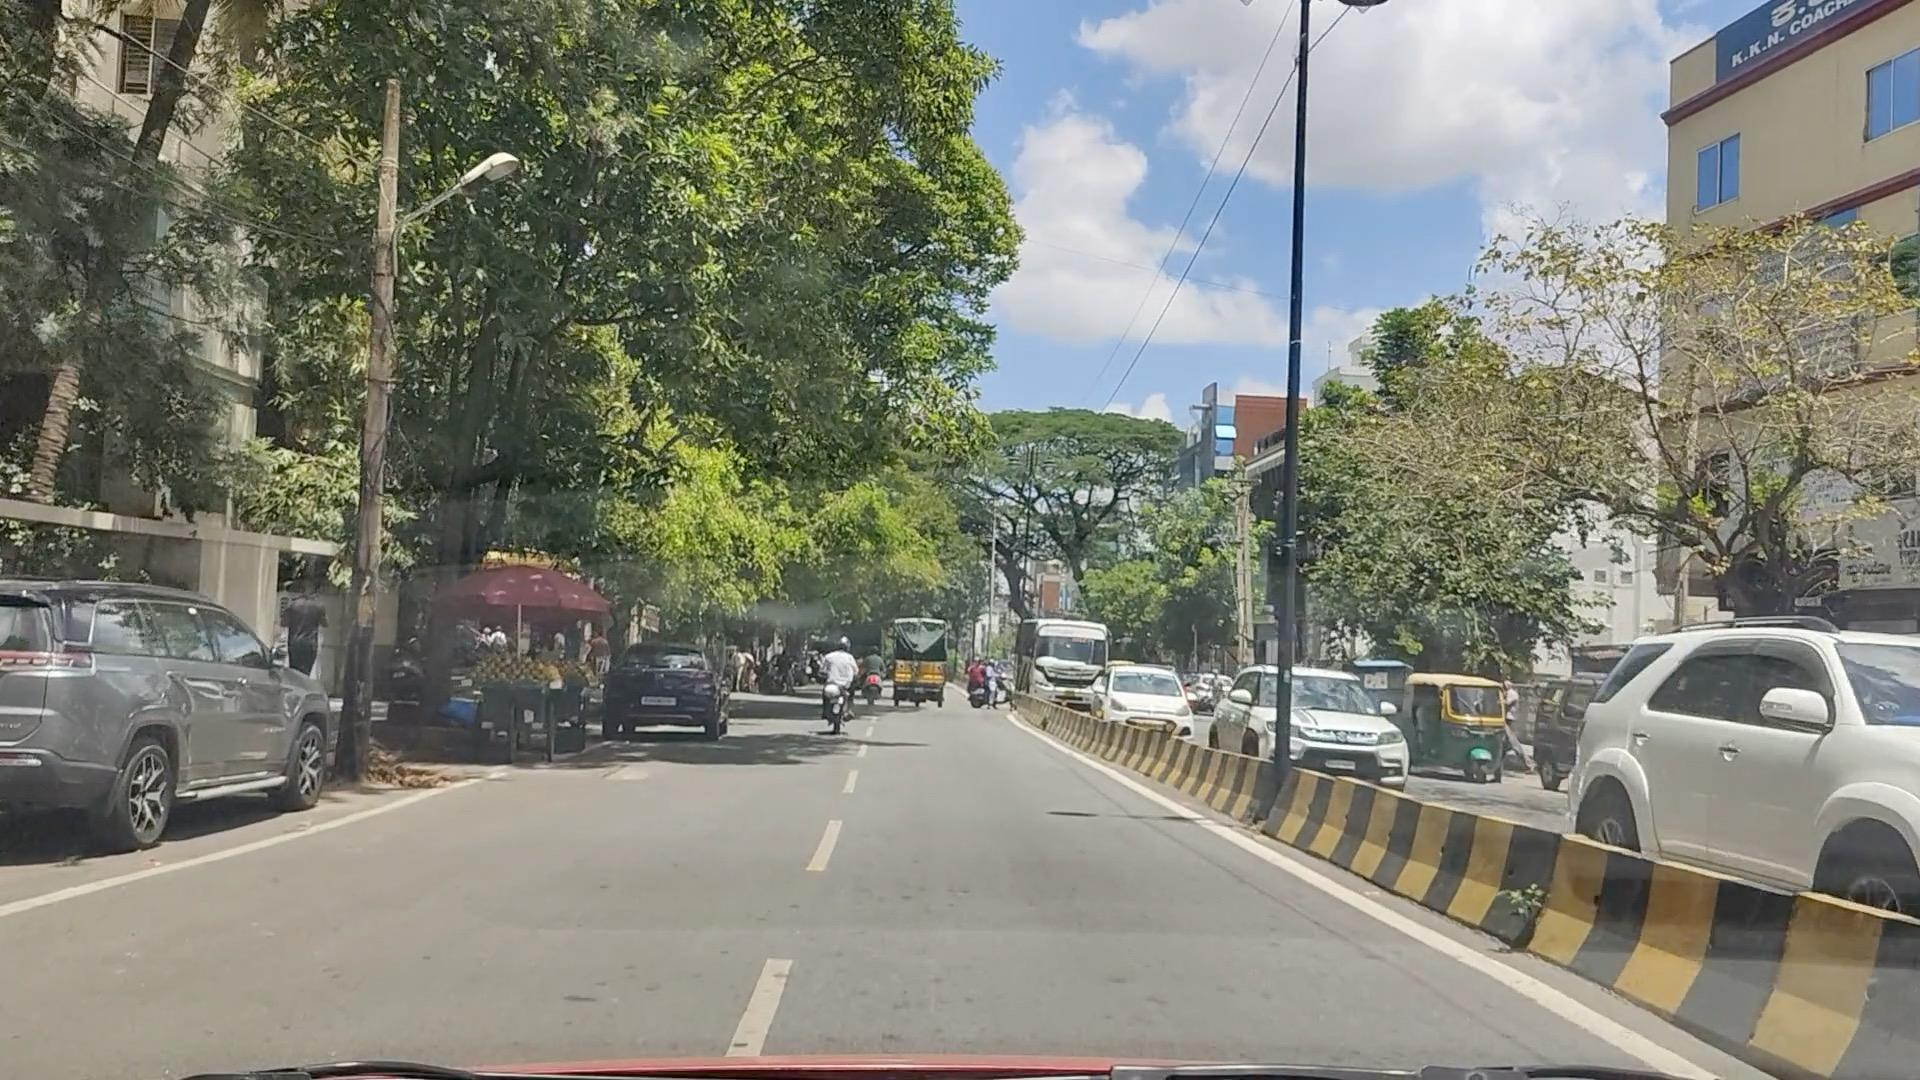LMV: (607, 640, 732, 723), (813, 630, 864, 733)
